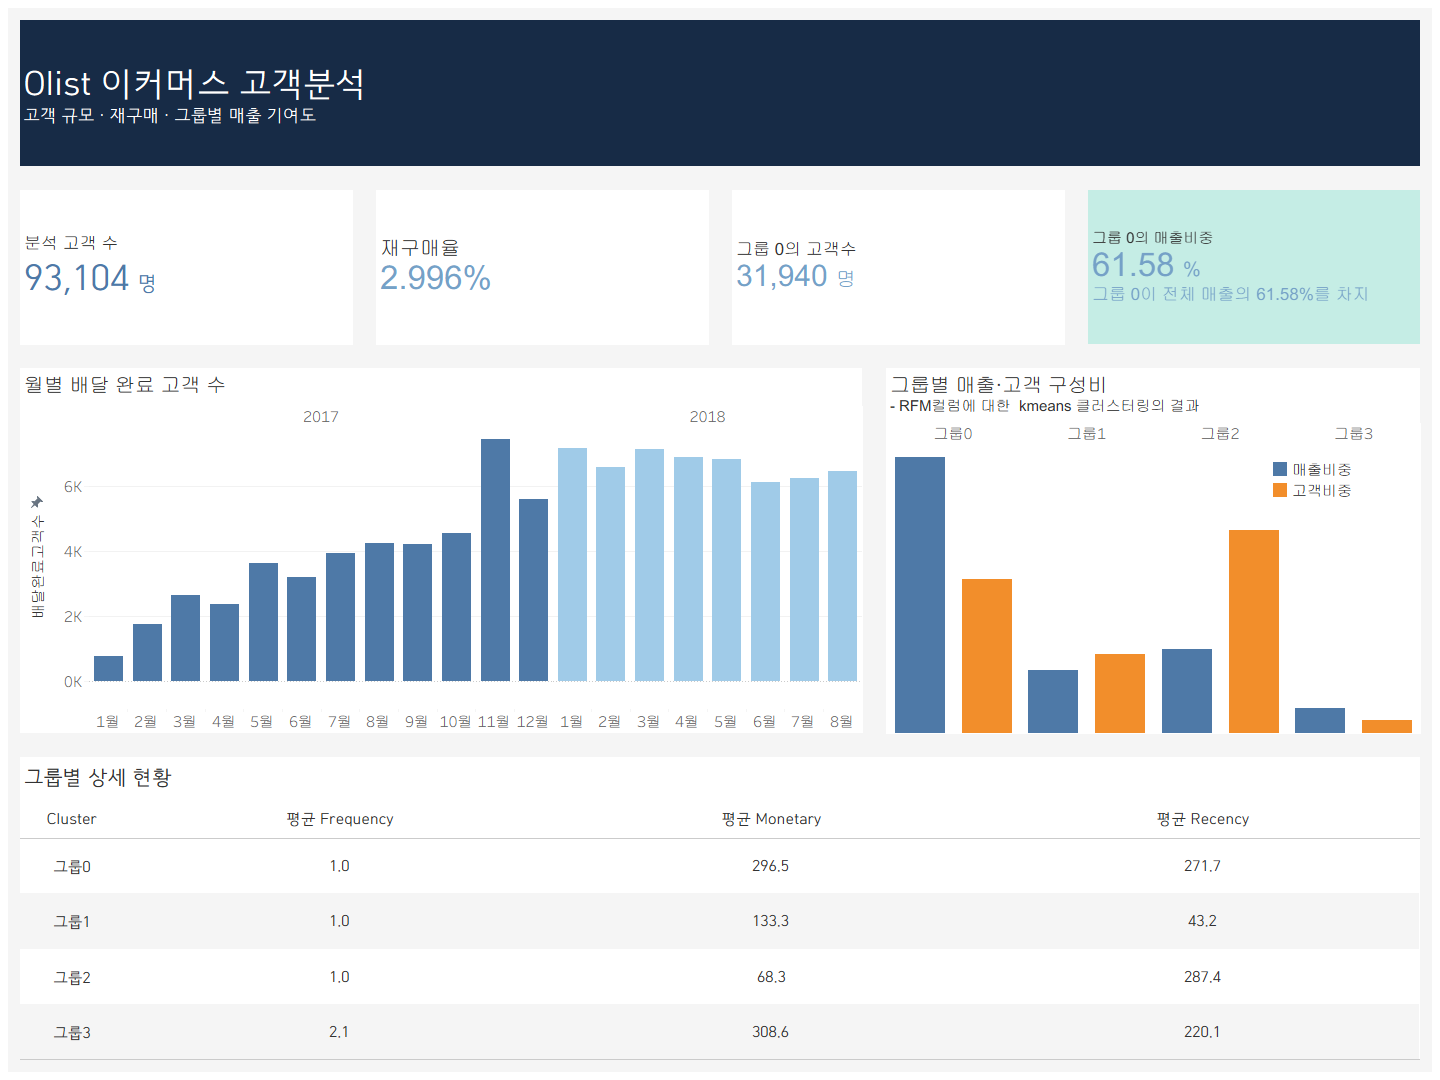

The dashboard page shown, as its layout file describes it:
{"tool":"tableau","page":{"name":"대시보드 2","canvas":[1440,1080],"ordinal":0},"visuals":[{"type":"title","box":[8,8,1424,170]},{"type":"worksheet","title":"시트 1","mark":"Text","box":[8,178,356,177.7]},{"type":"worksheet","title":"시트 2","mark":"Text","box":[364,178,356,177.7]},{"type":"worksheet","title":"시트 5","mark":"Automatic","box":[720,178,356,177.7]},{"type":"worksheet","title":"시트 6","mark":"Automatic","box":[1076,178,356,177.7]},{"type":"worksheet","title":"시트 3","mark":"Bar","rows":["Calculation_1567691421540353"],"cols":["ORDER_PURCHASE_TIMESTAMP","ORDER_PURCHASE_TIMESTAMP"],"box":[8,355.8,866,389.1]},{"type":"worksheet","title":"시트 4","mark":"Bar","cols":["CLUSTER"],"box":[874,355.8,557.9,389.1]},{"type":"legend","title":"시트 4","param":"[federated.1i9oy0x06l4igl11t46lh0eij94n].[:Measure Names]","box":[1270,459,140,64]},{"type":"worksheet","title":"시트 7","mark":"Automatic","rows":["CLUSTER"],"box":[8,744.8,1424,327.2]}]}

Visuals, with their boxes in screenshot pixels (x1, y1, x2, y2), scaled from the page's 1440x1080 canvas onto the 1440x1080 screenshot:
title: pyautogui.locateOnScreen(8, 8, 1432, 178)
"시트 1" worksheet (Text marks): pyautogui.locateOnScreen(8, 178, 364, 356)
"시트 2" worksheet (Text marks): pyautogui.locateOnScreen(364, 178, 720, 356)
"시트 5" worksheet: pyautogui.locateOnScreen(720, 178, 1076, 356)
"시트 6" worksheet: pyautogui.locateOnScreen(1076, 178, 1432, 356)
"시트 3" worksheet (Bar marks): pyautogui.locateOnScreen(8, 356, 874, 745)
"시트 4" worksheet (Bar marks): pyautogui.locateOnScreen(874, 356, 1432, 745)
"시트 4" legend: pyautogui.locateOnScreen(1270, 459, 1410, 523)
"시트 7" worksheet: pyautogui.locateOnScreen(8, 745, 1432, 1072)
